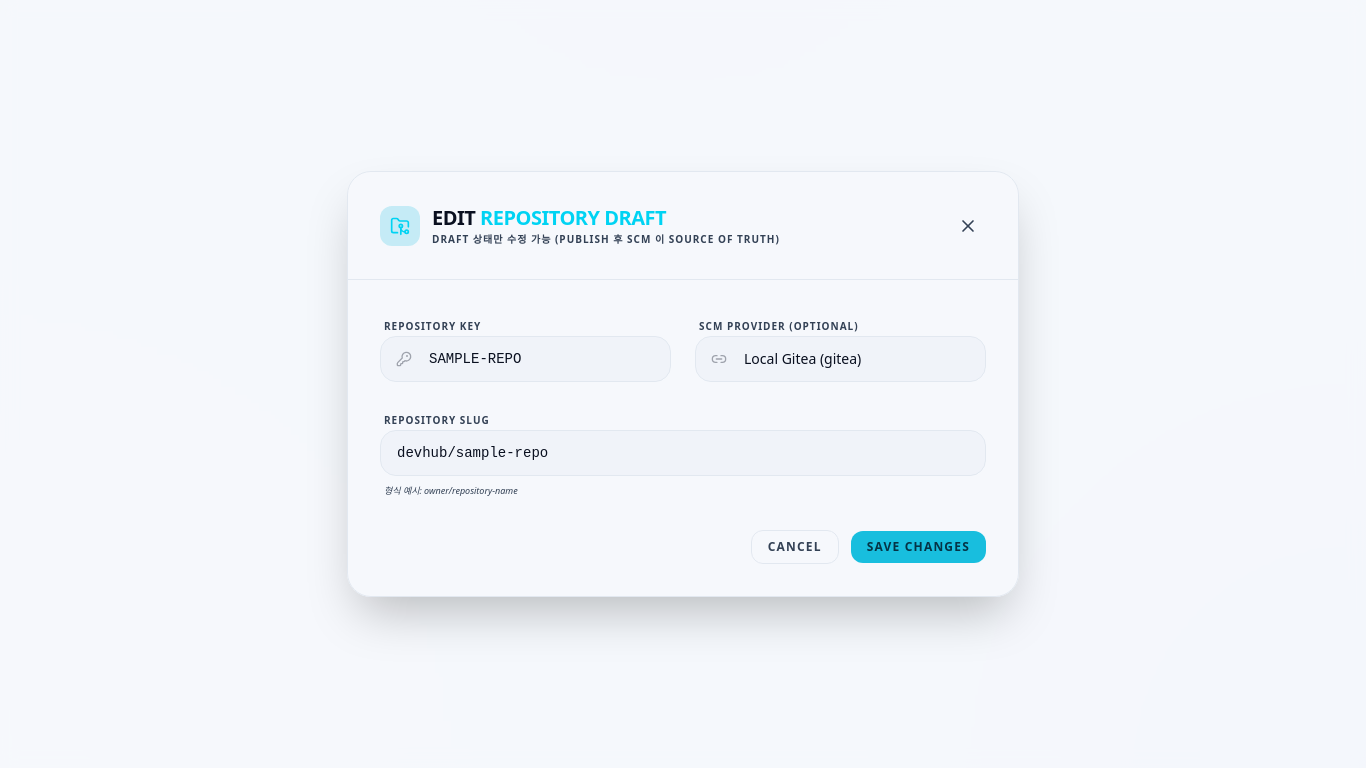
RepositoryEditModal › shows error message on submit failure
Check: the dropdown labelled "SCM Provider (Optional)" shows "Local Gitea (gitea)", box top-left (695, 336), bottom-right (986, 382)
Click the button "Save Changes".
click(918, 547)  # box top-left (851, 531), bottom-right (986, 563)
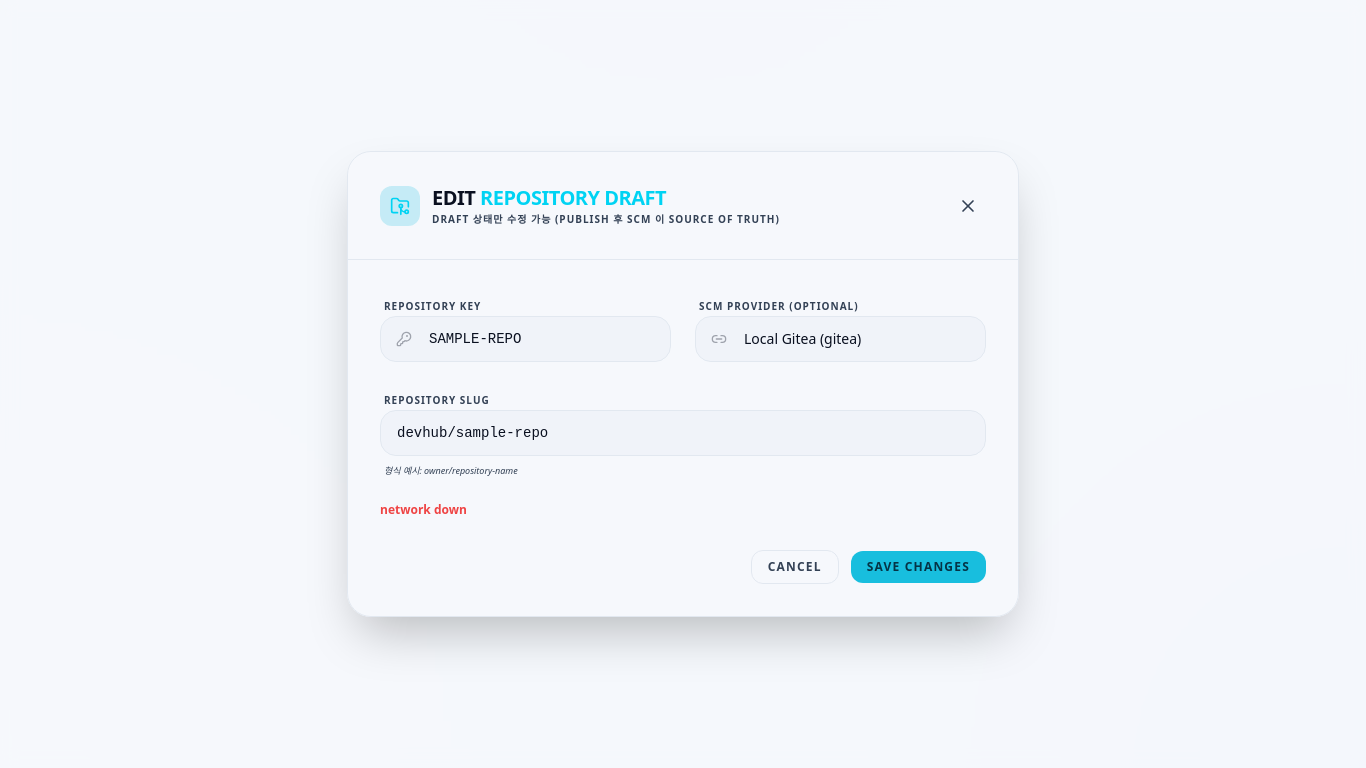
Check: the text "network down" is shown, box top-left (380, 501), bottom-right (467, 518)
